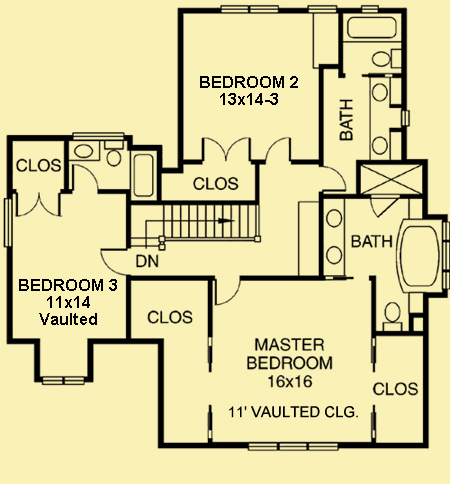door: (200, 133, 253, 168), (14, 187, 64, 221), (99, 245, 132, 279), (315, 161, 348, 194), (211, 274, 243, 307), (264, 135, 296, 167), (69, 162, 100, 193), (369, 191, 403, 218)
large sink: (371, 45, 403, 71), (381, 299, 404, 333), (101, 140, 127, 167)
small sink: (368, 127, 402, 158), (369, 78, 402, 109), (323, 197, 347, 236), (324, 241, 348, 276), (68, 142, 101, 163)
stairs: (161, 201, 263, 244)
tub: (395, 216, 443, 293), (343, 14, 401, 44), (129, 150, 158, 202)
windows: (245, 439, 341, 455), (219, 1, 282, 17), (40, 374, 86, 390), (2, 196, 15, 252), (304, 2, 342, 16)
